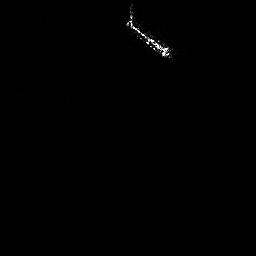ship: (126, 19, 170, 55)
